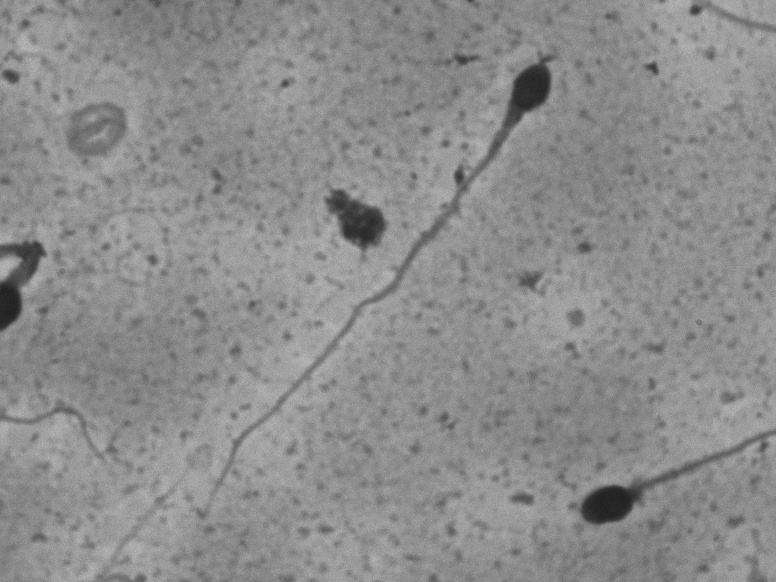Abnormal: (186, 48, 562, 532), (555, 410, 752, 564)
